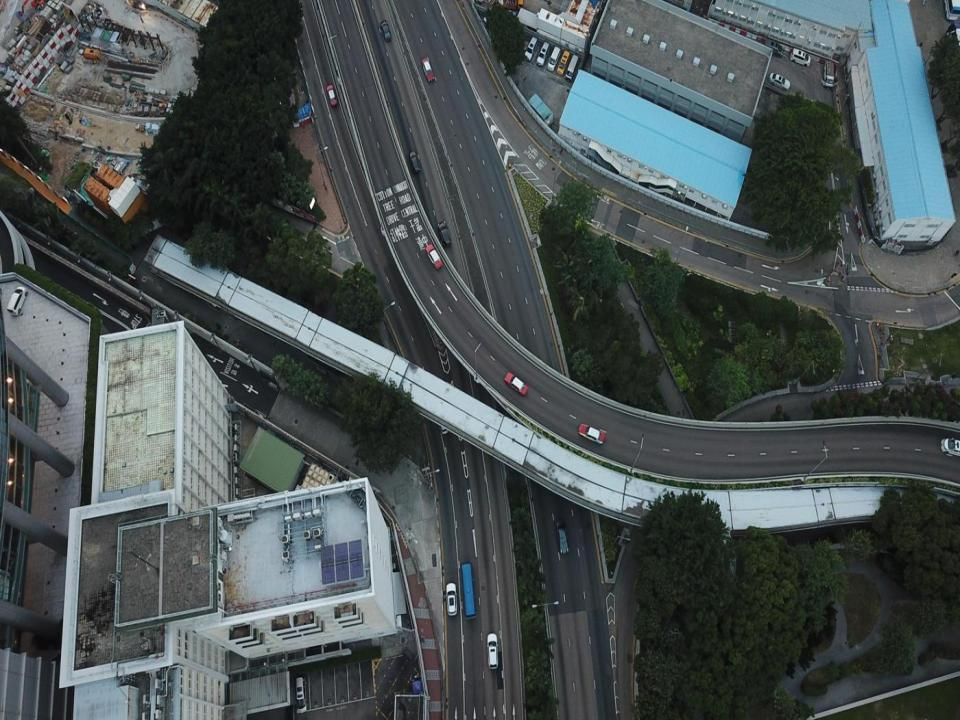bus: (461, 560, 478, 620), (946, 0, 959, 24)
car: (7, 281, 29, 318), (504, 371, 529, 396), (444, 581, 459, 621), (485, 628, 498, 674), (578, 423, 605, 444), (554, 520, 569, 556), (423, 242, 442, 270), (420, 57, 436, 85), (769, 72, 791, 91), (324, 83, 338, 109), (439, 410, 453, 435), (408, 150, 421, 175), (381, 17, 392, 44)
van: (294, 676, 310, 716), (820, 57, 836, 90), (546, 41, 561, 75), (522, 31, 537, 63), (790, 46, 812, 66), (438, 220, 452, 250), (761, 37, 783, 56), (536, 40, 549, 70), (941, 434, 960, 454), (557, 48, 570, 76), (566, 53, 576, 81)
